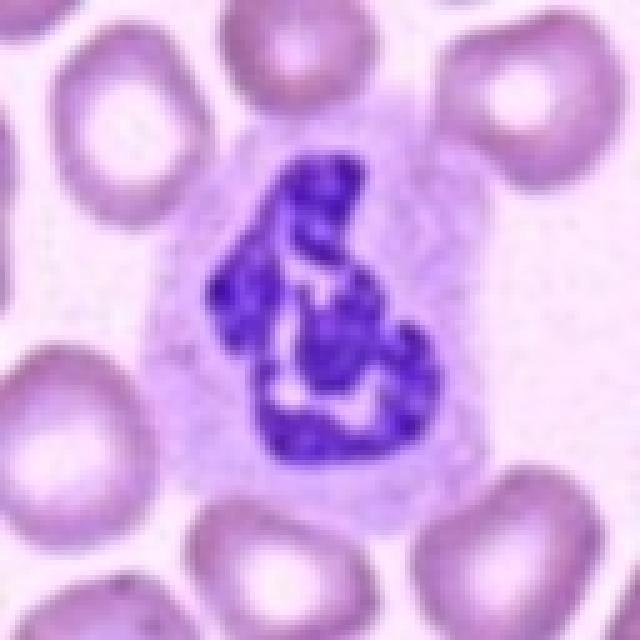neutro: (114, 85, 569, 483)
